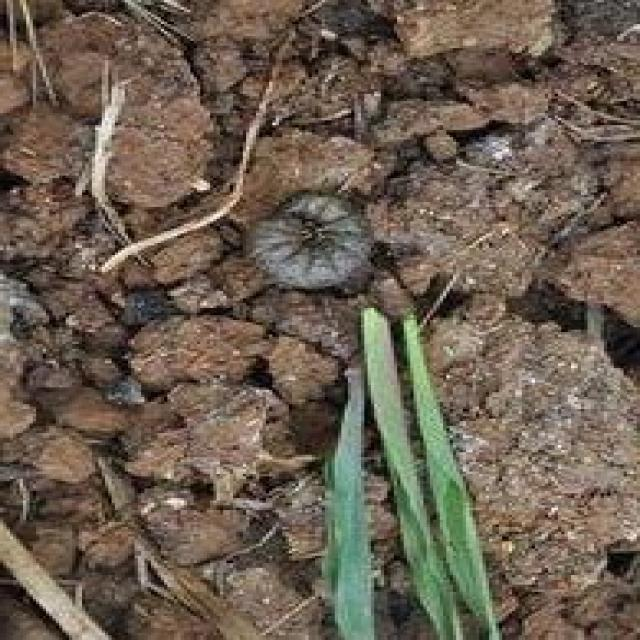black cutworm: (242, 185, 370, 317)
